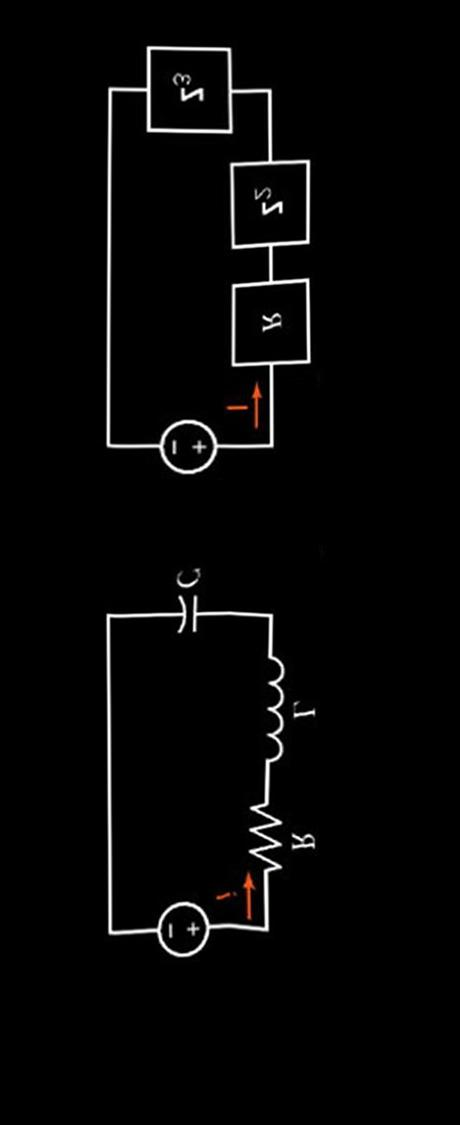Battery: (141, 390, 229, 487), (141, 871, 217, 971)
